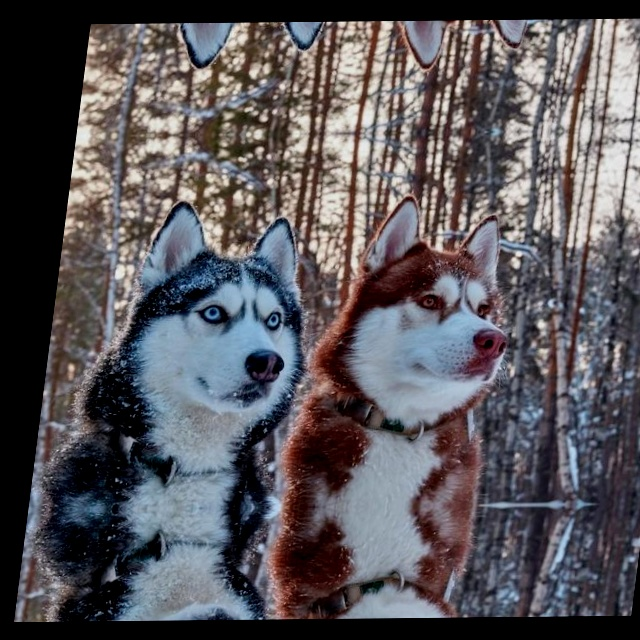dog: (29, 211, 321, 509), (281, 198, 543, 507), (15, 507, 283, 622), (267, 504, 504, 620), (338, 19, 566, 65), (87, 21, 345, 57)
